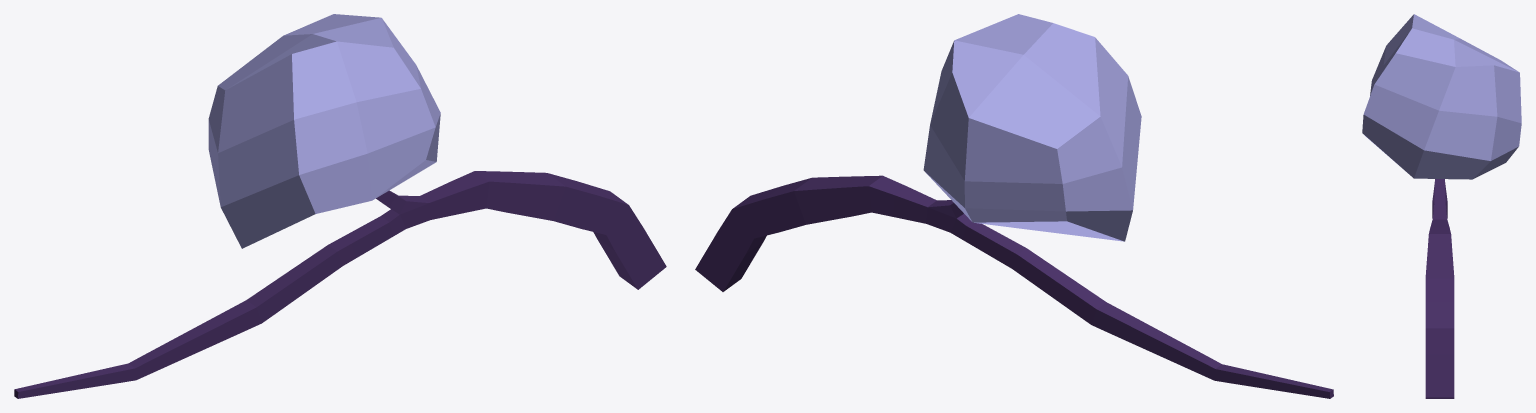
File: Bush_02.fbx
3 renders of one model, left to right at view 1: azimuth 30°, elevation 25°; view 2: azimuth 150°, elevation 25°; view 3: azimuth 270°, elevation 25°, orthographic. The views are drawn at different scales.
Visible parts, largest first — view 1: Bush_02; view 2: Bush_02; view 3: Bush_02.
Part boxes in pixels (x1,y1,x2,y2): Bush_02: [14, 14, 666, 398]; Bush_02: [695, 14, 1333, 398]; Bush_02: [1362, 14, 1521, 398].
Bounding box in the file's own units: 685 × 337 × 192.
